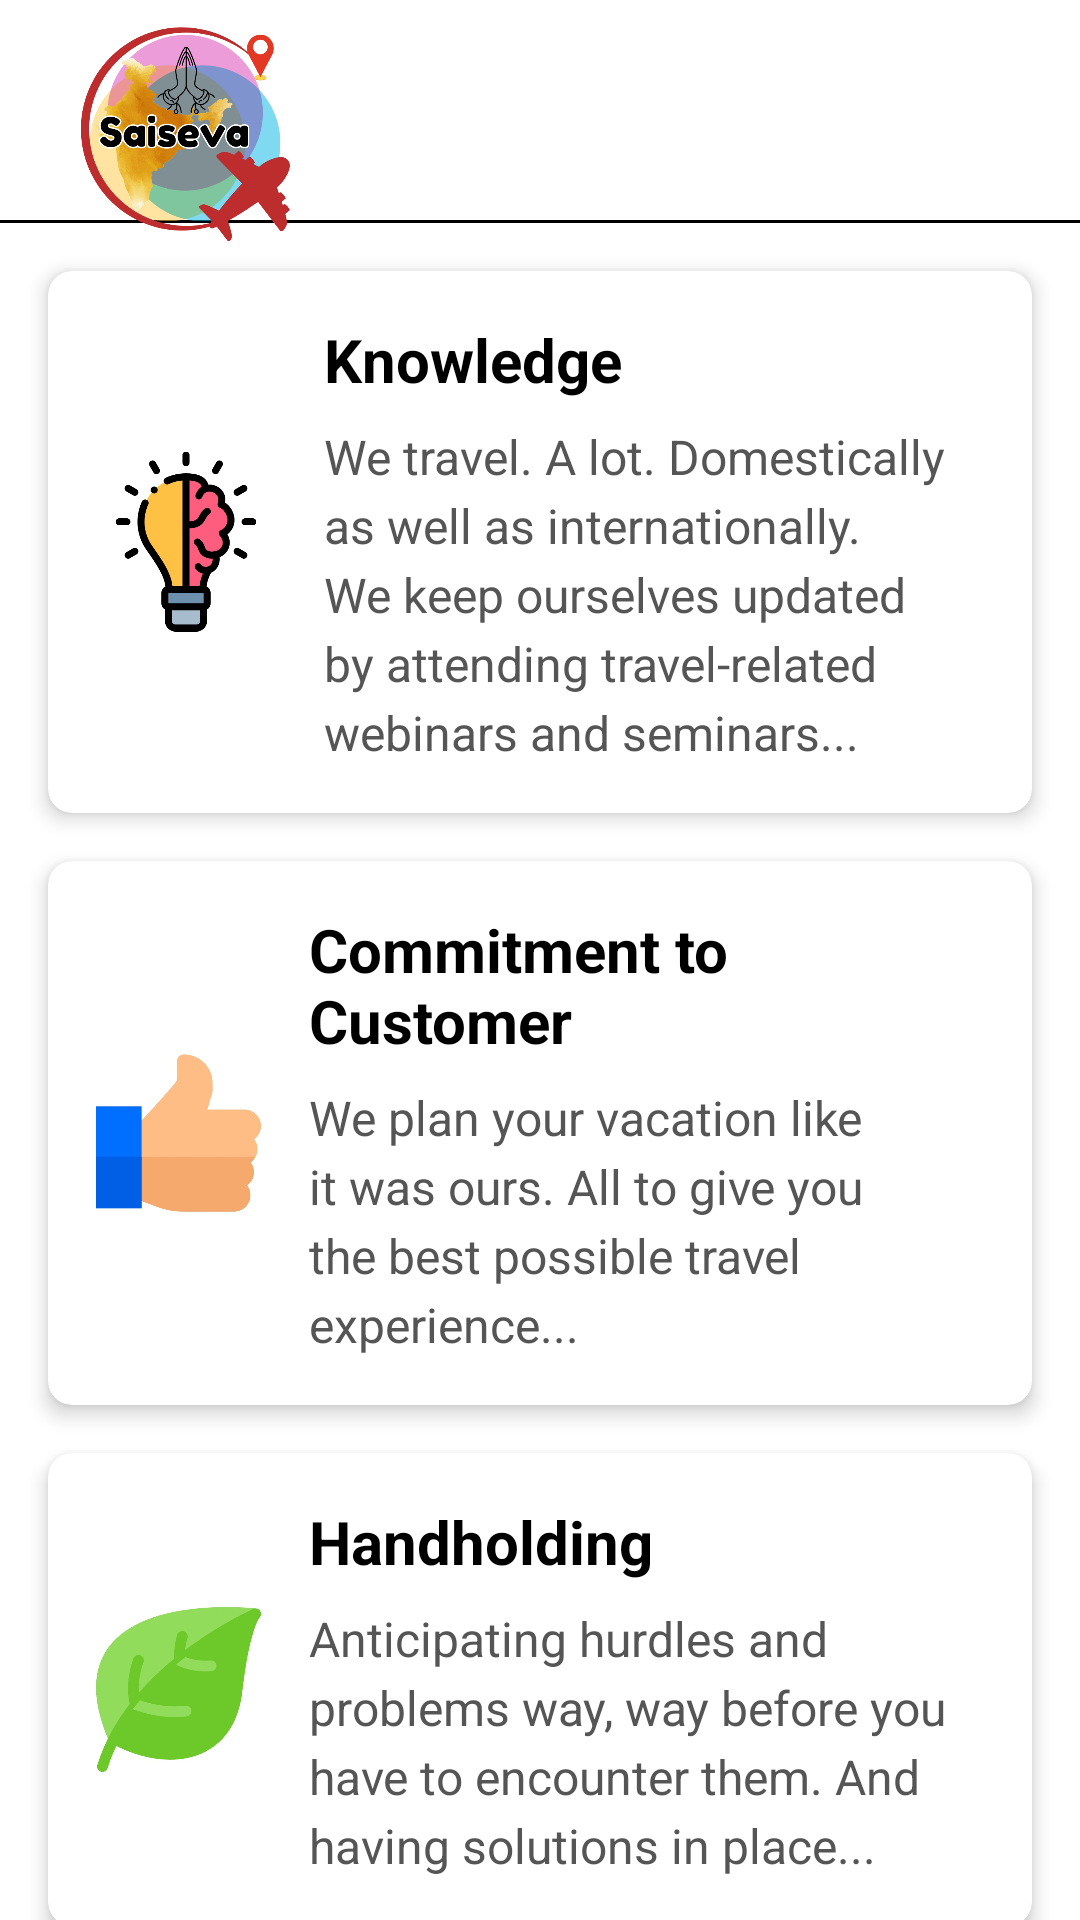

Icons on this 1080x1920 Android screen, each with its box as (left=x1, top=y1, right=x2, bottom=y2):
brain: (left=116, top=452, right=256, bottom=632)
leaf: (left=96, top=1607, right=261, bottom=1772)
thumb: (left=96, top=1054, right=261, bottom=1212)
